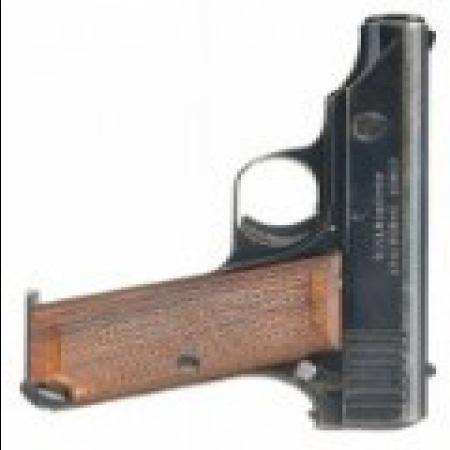Pistol: (22, 11, 446, 425)
